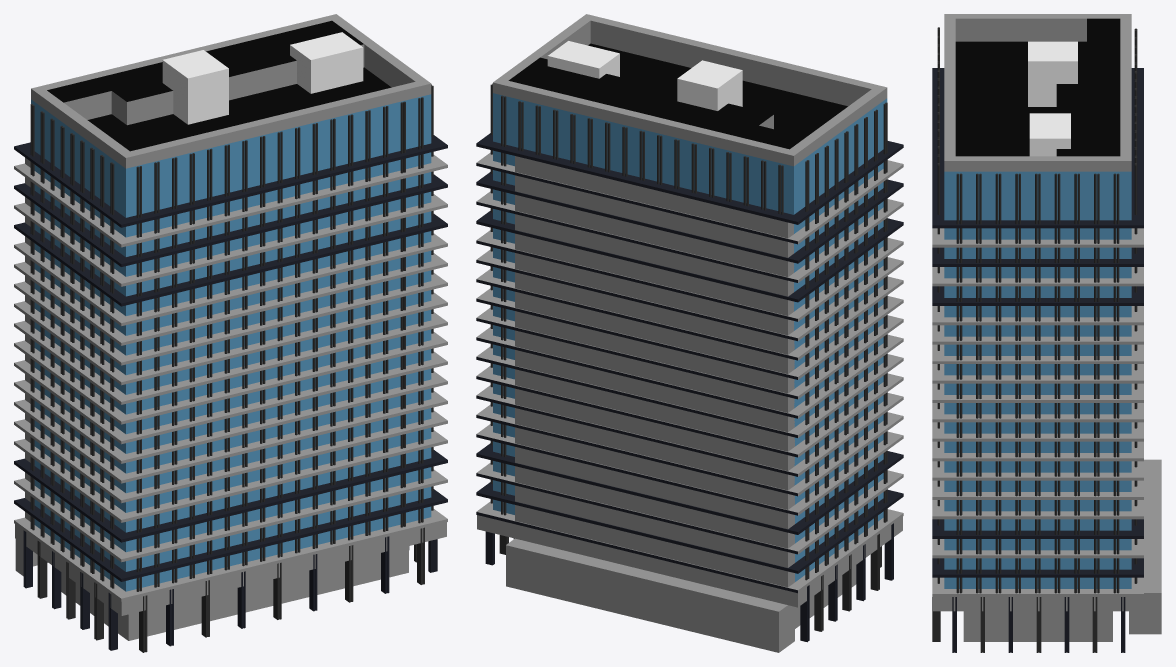
The model's file is building2.gltf.
3 renders of one model, left to right at view 1: azimuth 30°, elevation 25°; view 2: azimuth 150°, elevation 25°; view 3: azimuth 270°, elevation 25°, orthographic.
Visible parts, largest first — view 1: Tokyo_Building006_0; view 2: Tokyo_Building006_0; view 3: Tokyo_Building006_0.
Boxes of the visible parts, bbox=[...] form: Tokyo_Building006_0: bbox=[14, 14, 447, 652]; Tokyo_Building006_0: bbox=[476, 14, 903, 652]; Tokyo_Building006_0: bbox=[932, 14, 1161, 652].
Size of the model in its own units: 6.96 by 10.5 by 4.28.
